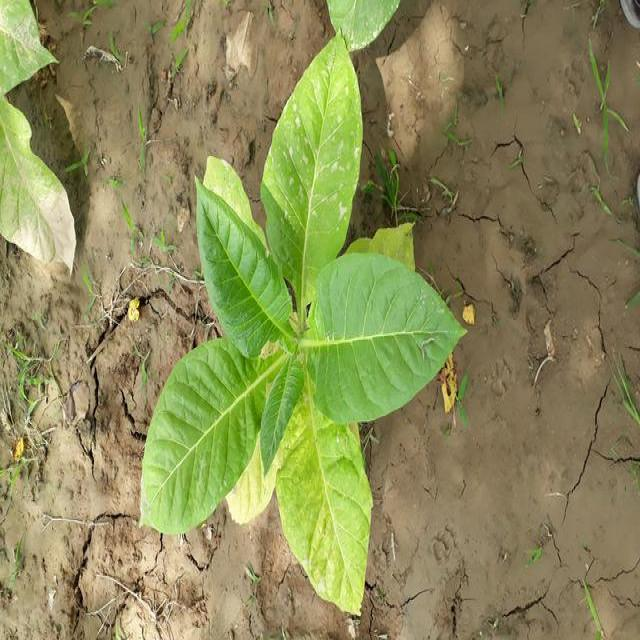crop: (140, 58, 462, 604), (0, 1, 77, 270), (330, 0, 403, 48)
